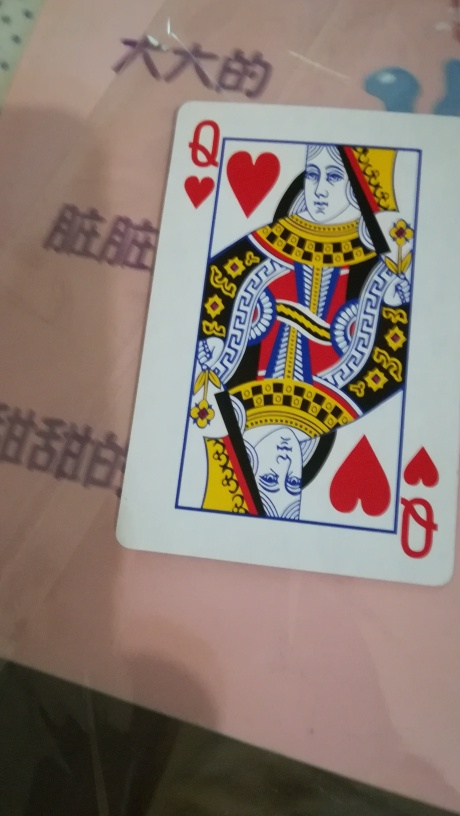hx q: (119, 97, 460, 582)
